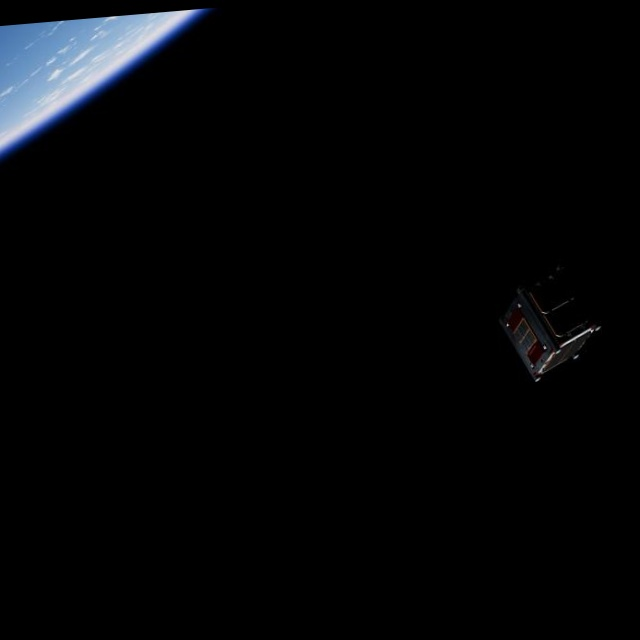medium_debris: (487, 239, 615, 393)
